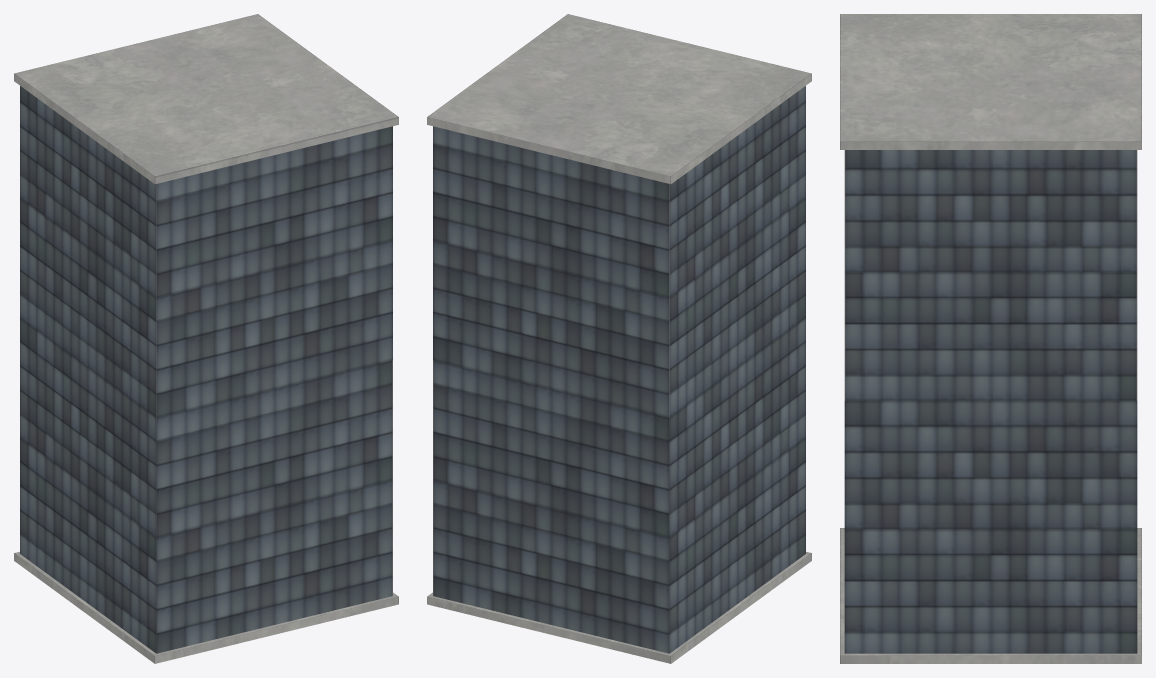
File: building_04.2.glb
3 views of the same model, side by side, from view 1: azimuth 30°, elevation 25°; view 2: azimuth 150°, elevation 25°; view 3: azimuth 270°, elevation 25° (orthographic). The views are drawn at different scales.
Parts seen in each view (by area): view 1: building_04.2; view 2: building_04.2; view 3: building_04.2.
Boxes of the visible parts, x1,y1,x2,y2 form: building_04.2: (14, 14, 398, 663); building_04.2: (427, 14, 811, 663); building_04.2: (840, 14, 1141, 663).
Bounding box in the file's own units: 33 × 63 × 33.
1 material, 1 textured.
